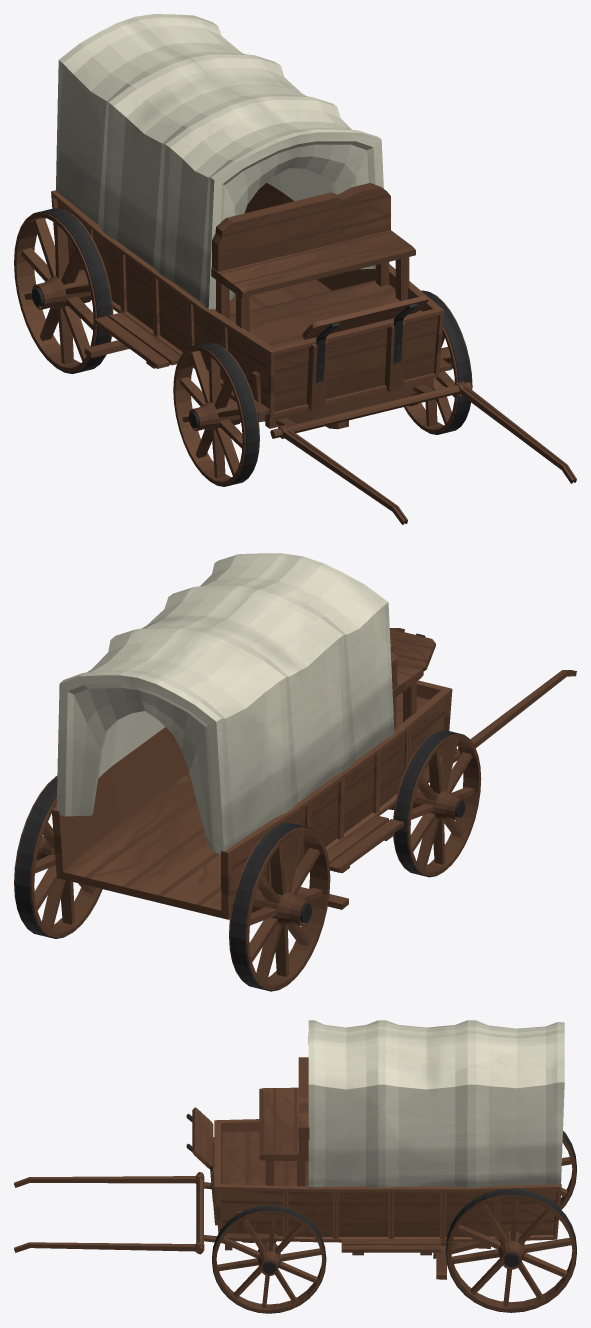
Rendered from caravan.glb.
3 renders of one model, top to bottom at view 1: azimuth 30°, elevation 25°; view 2: azimuth 150°, elevation 25°; view 3: azimuth 270°, elevation 25°, orthographic. The views are drawn at different scales.
Visible parts, largest first — view 1: Cube.005, extra, Wheel_rr, Wheel_fr, Wheel_fl, horseSupport; view 2: extra, Cube.005, Wheel_rr, Wheel_fr, Wheel_rl, horseSupport; view 3: extra, Cube.005, Wheel_rl, Wheel_fl, horseSupport, Wheel_rr.
Boxes of the visible parts, box(x1,y1,x2,y2) form: Cube.005: box(51, 183, 471, 438); extra: box(56, 14, 383, 309); Wheel_rr: box(14, 208, 113, 373); Wheel_fr: box(173, 342, 259, 486); Wheel_fl: box(404, 290, 472, 434); horseSupport: box(278, 381, 576, 524); extra: box(56, 553, 394, 854); Cube.005: box(51, 628, 460, 919); Wheel_rr: box(229, 822, 330, 991); Wheel_fr: box(393, 730, 481, 877); Wheel_rl: box(14, 776, 102, 938); horseSupport: box(389, 628, 576, 760); extra: box(308, 1020, 564, 1187); Cube.005: box(186, 1057, 561, 1279); Wheel_rl: box(445, 1188, 576, 1312); Wheel_fl: box(212, 1205, 326, 1313); horseSupport: box(14, 1174, 204, 1253); Wheel_rr: box(560, 1131, 576, 1209).
Size of the model in its own units: 5.7 by 6.17 by 13.27.
Materials: 1 (1 with a texture image).
